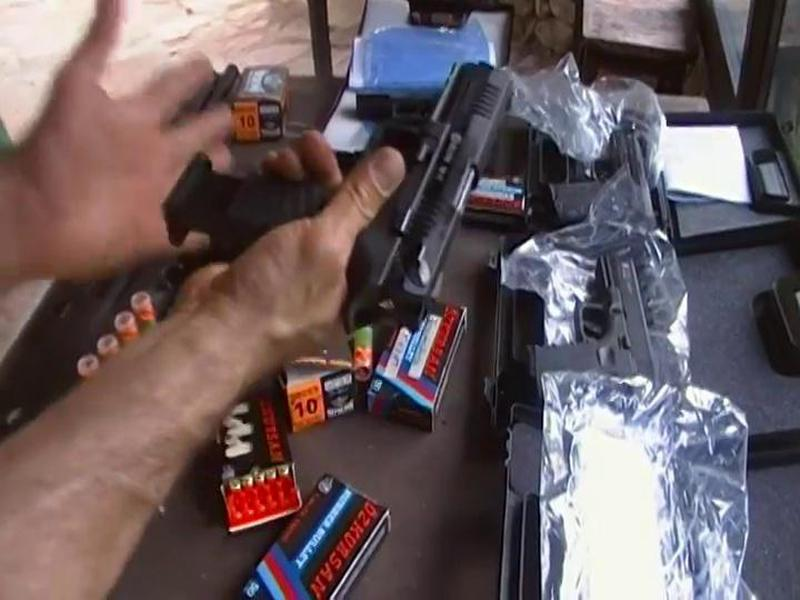Pistola: (195, 36, 515, 330)
